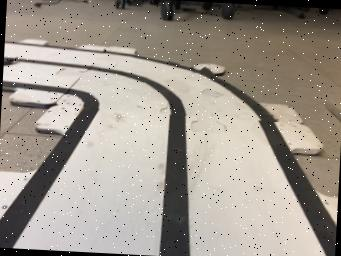street: (0, 40, 336, 256), (0, 40, 336, 256), (0, 40, 336, 256), (0, 40, 336, 256), (0, 40, 336, 256), (0, 40, 336, 256)
